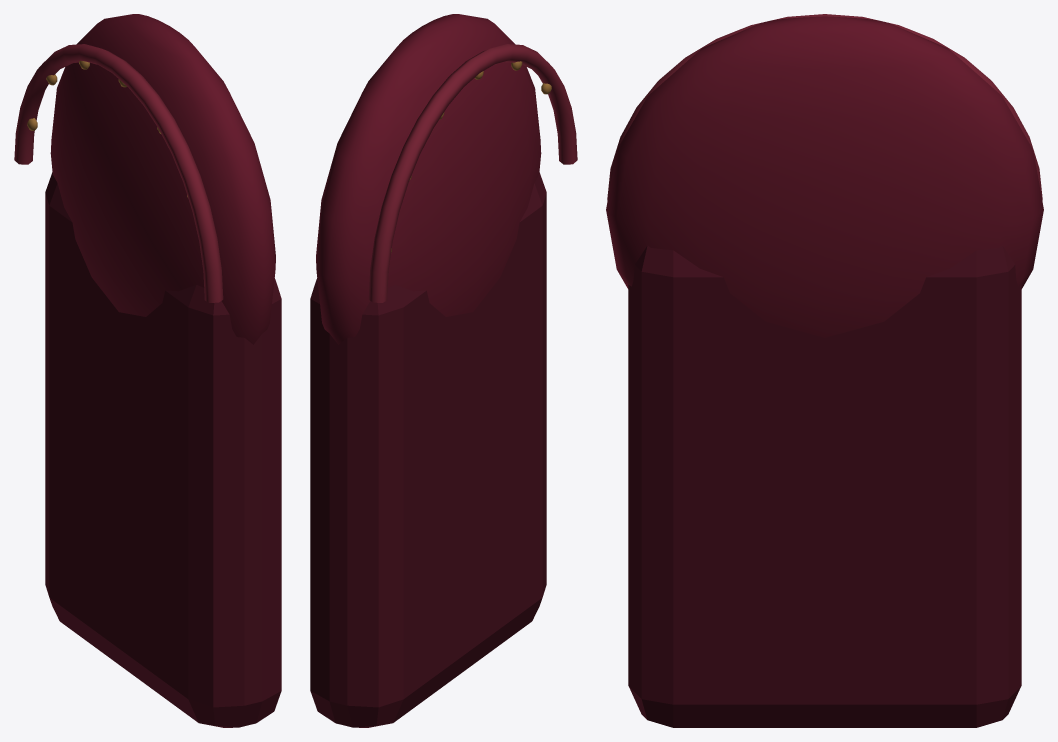
Rendered from SM_Menu_AudienceSeat_02.fbx.
The picture shows the model from 3 angles, left to right: view 1: azimuth 30°, elevation 25°; view 2: azimuth 150°, elevation 25°; view 3: azimuth 270°, elevation 25°; orthographic projection. The views are drawn at different scales.
Visible parts, largest first — view 1: Audience chair back.006_Baked; view 2: Audience chair back.006_Baked; view 3: Audience chair back.006_Baked.
Part boxes in pixels (x1,y1,x2,y2): Audience chair back.006_Baked: (14, 14, 281, 727); Audience chair back.006_Baked: (310, 14, 577, 727); Audience chair back.006_Baked: (606, 14, 1043, 727).
Bounding box in the file's own units: 24 × 78 × 139.
